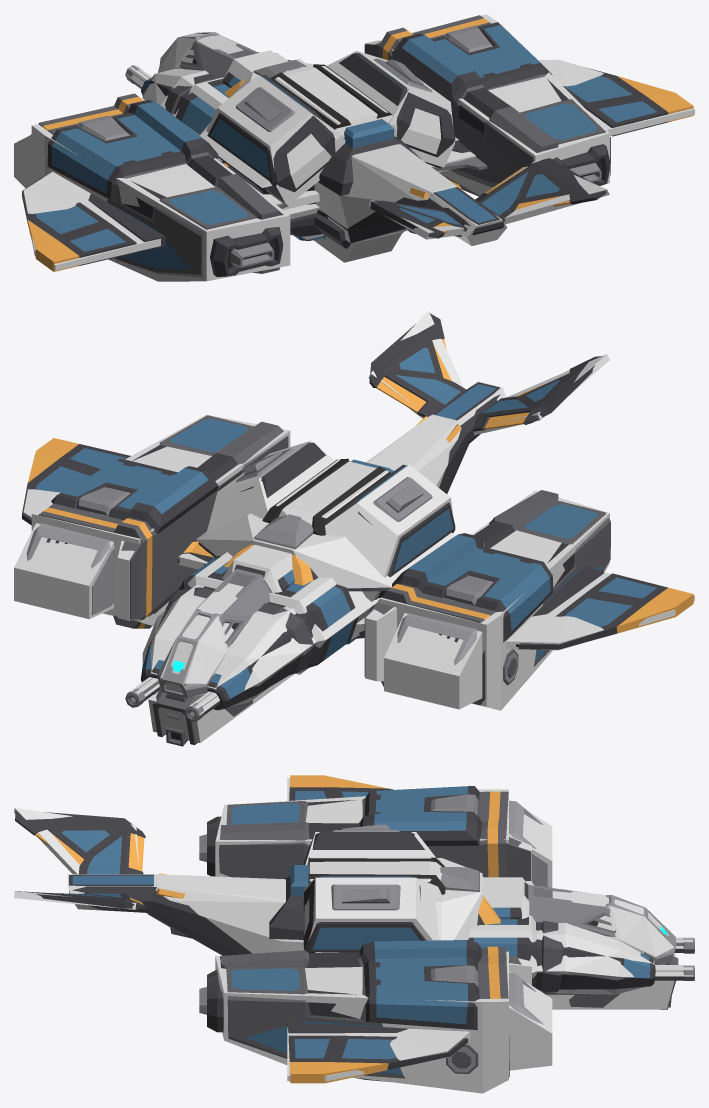
The model's file is SM_Ship_Bomber_02.fbx.
3 renders of one model, top to bottom at view 1: azimuth 30°, elevation 25°; view 2: azimuth 150°, elevation 25°; view 3: azimuth 270°, elevation 25°, orthographic. The views are drawn at different scales.
Visible parts, largest first — view 1: SM_Ship_Bomber_02_LOD0, SM_Ship_Bomber_02_ConvexHulls; view 2: SM_Ship_Bomber_02_LOD0, SM_Ship_Bomber_02_ConvexHulls; view 3: SM_Ship_Bomber_02_LOD0, SM_Ship_Bomber_02_ConvexHulls.
Part boxes in pixels (x1,y1,x2,y2): SM_Ship_Bomber_02_LOD0: [22, 15, 693, 277]; SM_Ship_Bomber_02_ConvexHulls: [14, 14, 694, 281]; SM_Ship_Bomber_02_LOD0: [22, 313, 693, 746]; SM_Ship_Bomber_02_ConvexHulls: [14, 310, 694, 742]; SM_Ship_Bomber_02_LOD0: [15, 775, 694, 1083]; SM_Ship_Bomber_02_ConvexHulls: [14, 777, 692, 1093].
Size of the model in its own units: 2550 by 2644 by 637.
1 material, 1 textured.
